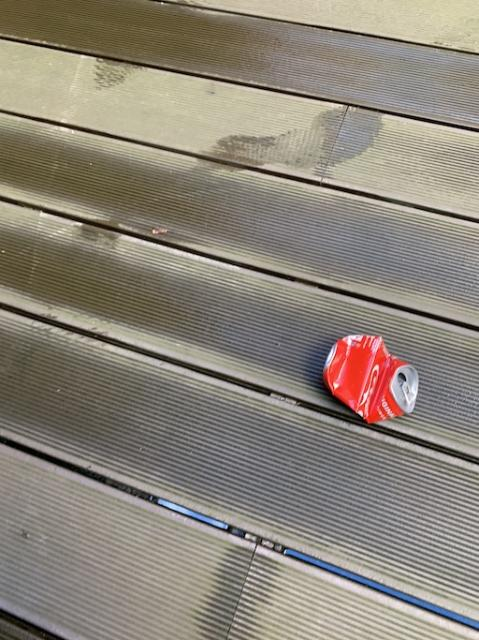metal: (322, 334, 417, 422)
